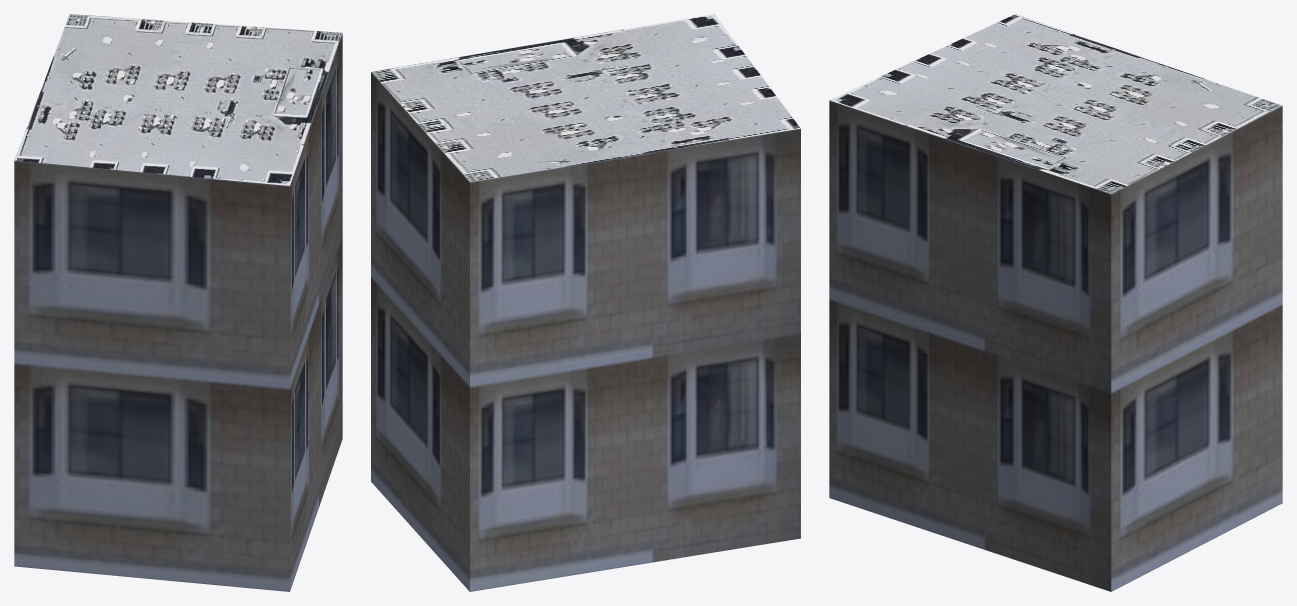
The model's file is ResTex__1020.fbx.
The picture shows the model from 3 angles, left to right: view 1: azimuth 30°, elevation 25°; view 2: azimuth 150°, elevation 25°; view 3: azimuth 270°, elevation 25°; orthographic projection. The views are drawn at different scales.
Parts seen in each view (by area): view 1: CityEngineMaterial_3_m, CityEngineMaterial_4_m; view 2: CityEngineMaterial_3_m, CityEngineMaterial_4_m; view 3: CityEngineMaterial_3_m, CityEngineMaterial_4_m.
Part boxes in pixels (bbox=[...]): CityEngineMaterial_3_m: bbox=[14, 33, 342, 591]; CityEngineMaterial_4_m: bbox=[14, 14, 342, 185]; CityEngineMaterial_3_m: bbox=[371, 72, 800, 591]; CityEngineMaterial_4_m: bbox=[371, 14, 800, 181]; CityEngineMaterial_3_m: bbox=[829, 100, 1282, 591]; CityEngineMaterial_4_m: bbox=[829, 14, 1282, 194].
Size of the model in its own units: 5.83 by 6 by 6.2.
Materials: 2 (2 with a texture image).
